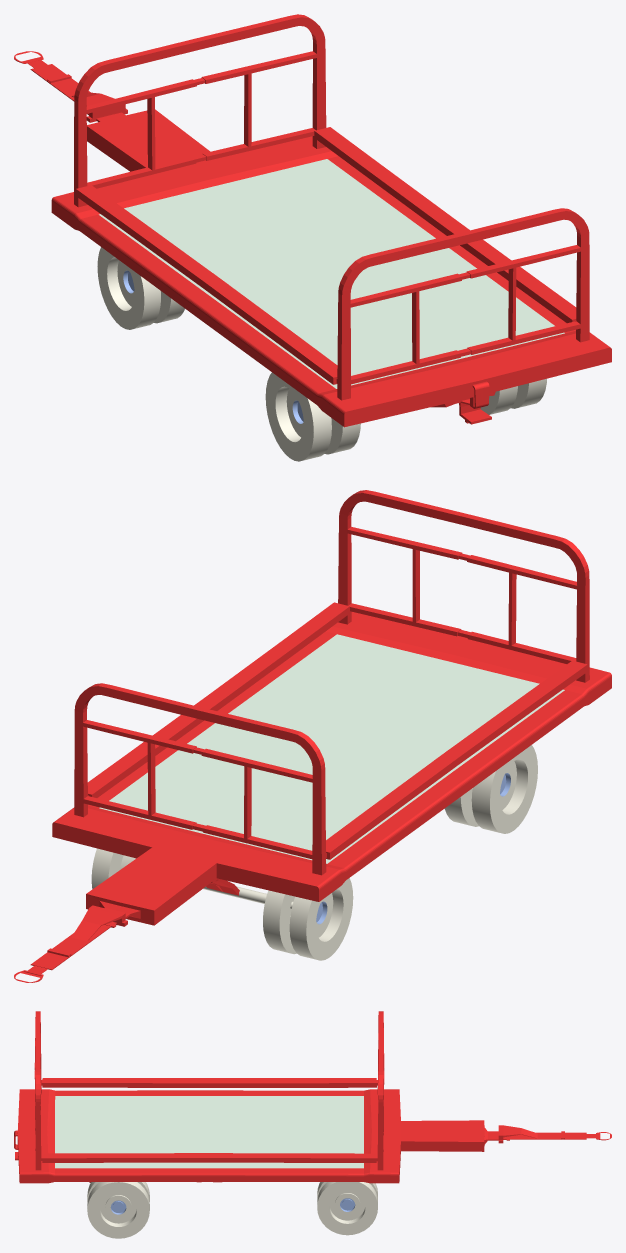
The model's file is Optional.fbx.
3 views of the same model, one above another, from view 1: azimuth 30°, elevation 25°; view 2: azimuth 150°, elevation 25°; view 3: azimuth 270°, elevation 25° (orthographic). The views are drawn at different scales.
Visible parts, largest first — view 1: Circle.002; view 2: Circle.002; view 3: Circle.002.
Boxes of the visible parts, x1=… form: Circle.002: x1=14, y1=14, x2=611, y2=461; Circle.002: x1=14, y1=490, x2=611, y2=982; Circle.002: x1=14, y1=1011, x2=611, y2=1238.
Bounding box in the file's own units: 1103 × 956 × 3288.
